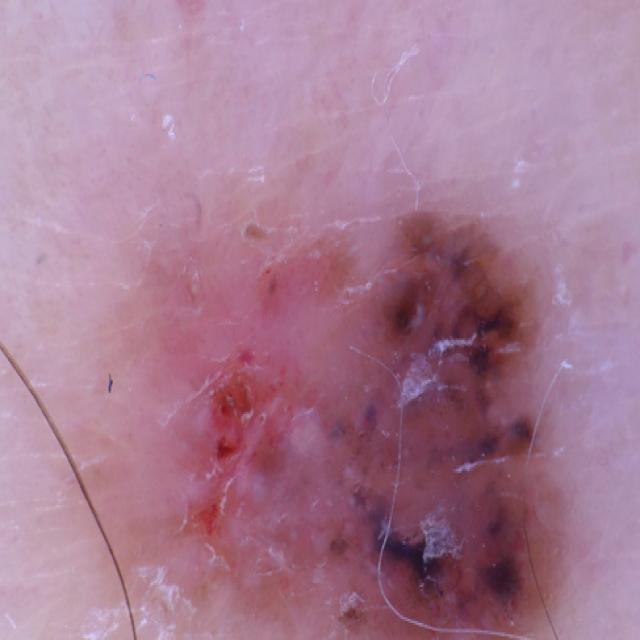Carcinoma: (157, 190, 584, 640)
